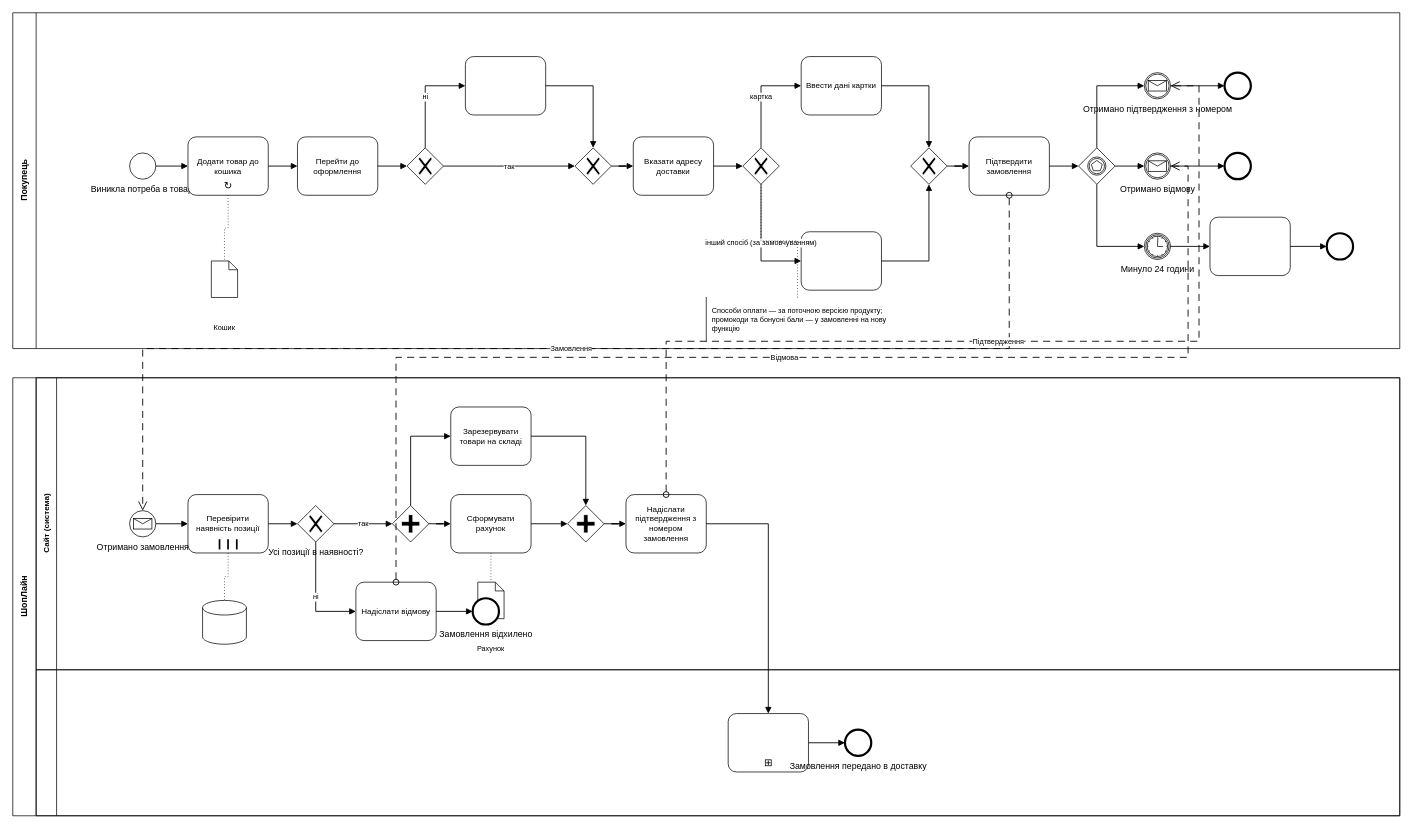
Image size: 1413x829. Some labels were removed from this diagram. The box of each missing label's shape, as (x1, y1, x2, y2) in pixels:
Замовлення не прийнято: (1224, 152, 1251, 179)
Замовлення оформлено: (1224, 72, 1251, 99)
Звернутися через контактну форму: (1209, 216, 1290, 276)
Каталог товарів: (202, 600, 246, 644)
Комплектація і відправлення: (727, 713, 808, 772)
Менеджер магазину: (35, 669, 1400, 816)
Обрати спосіб без введення даних: (800, 231, 881, 290)
Очікує відповіді: (1326, 233, 1353, 260)
Покупець увійшов у кабінет?: (406, 147, 443, 184)
Спосіб оплати?: (742, 147, 779, 184)
Увійти або зареєструватися: (465, 56, 546, 115)
